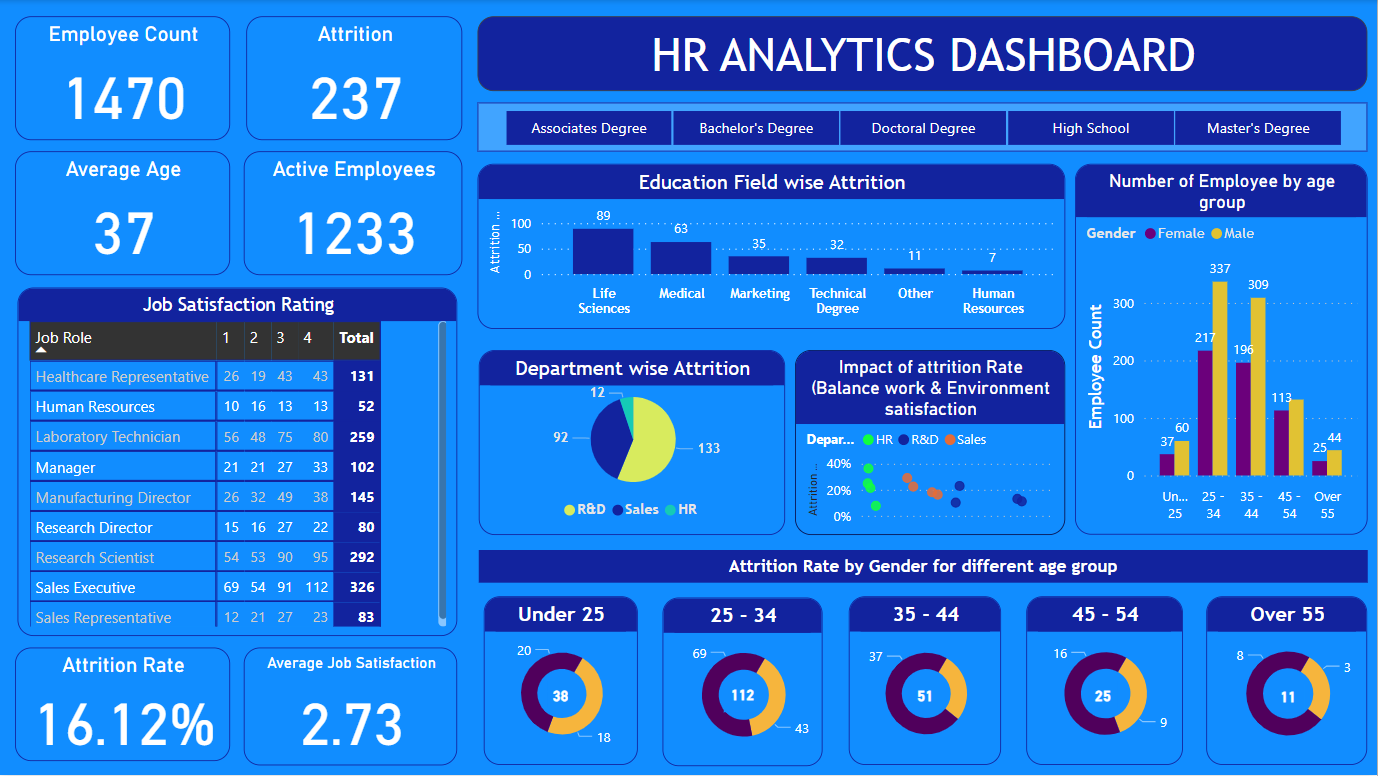

This screenshot's page, from the dashboard's own definition file:
{"tool":"powerbi","page":{"name":"Page 1","canvas":[1280,720],"ordinal":0},"visuals":[{"type":"card","title":"Employee Count","fields":{"Values":["Sum(HR_Data.Employee Count)"]},"box":[13.9,15.1,199.9,115],"z":0},{"type":"card","title":"Attrition","fields":{"Values":["Sum(HR_Data.Attrition Count)"]},"box":[228.9,15.1,201,115],"z":1000},{"type":"card","title":"Attrition Rate","fields":{"Values":["HR_Data.Attrition Rate"]},"box":[13.9,601.9,199.9,105.7],"z":2000},{"type":"card","title":"Active Employees","fields":{"Values":["HR_Data.Active Employees"]},"box":[226.6,140.6,203.3,115],"z":3000},{"type":"card","title":"Average Age","fields":{"Values":["Avg(HR_Data.Age)"]},"box":[13.9,140.6,199.9,115],"z":4000},{"type":"pieChart","title":"Department wise Attrition","fields":{"Category":["HR_Data.Department"],"Y":["Sum(HR_Data.Attrition Count)"]},"box":[445,325.3,284.7,172],"z":5000},{"type":"clusteredColumnChart","title":"Number of Employee by age group","fields":{"Category":["HR_Data.CF_age band"],"Y":["Sum(HR_Data.Employee Count)"],"Series":["HR_Data.Gender"]},"box":[999.3,152.2,271.9,345.1],"z":6000},{"type":"pivotTable","title":"Job Satisfaction Rating","fields":{"Rows":["HR_Data.Job Role"],"Columns":["HR_Data.Job Satisfaction"],"Values":["Sum(HR_Data.Employee Count)"]},"box":[16.3,267.2,409,324.2],"z":7000},{"type":"clusteredColumnChart","title":"Education Field wise Attrition","fields":{"Category":["HR_Data.Education Field"],"Y":["Sum(HR_Data.Attrition Count)"]},"box":[443.9,152.2,546.1,153.4],"z":8000},{"type":"card","title":"Average Job Satisfaction","fields":{"Values":["HR_Data.Job Satisfaction Avg"]},"box":[226.6,601.9,198.7,109.2],"z":9000},{"type":"donutChart","title":"Under 25","fields":{"Category":["HR_Data.Gender"],"Y":["Sum(HR_Data.Attrition Count)"],"Series":["HR_Data.CF_age band"]},"box":[449.7,554.3,142.9,156.9],"z":10000},{"type":"textbox","box":[445,511.3,826.1,30.2],"z":11000},{"type":"donutChart","title":"Over 55","fields":{"Category":["HR_Data.Gender"],"Y":["Sum(HR_Data.Attrition Count)"],"Series":["HR_Data.CF_age band"]},"box":[1121.3,554.3,149.9,156.9],"z":12000},{"type":"donutChart","title":"25 - 34","fields":{"Category":["HR_Data.Gender"],"Y":["Sum(HR_Data.Attrition Count)"],"Series":["HR_Data.CF_age band"]},"box":[615.8,555.4,148.7,156.9],"z":13000},{"type":"donutChart","title":"35 - 44","fields":{"Category":["HR_Data.Gender"],"Y":["Sum(HR_Data.Attrition Count)"],"Series":["HR_Data.CF_age band"]},"box":[789,554.3,141.8,156.9],"z":14000},{"type":"donutChart","title":"45 - 54","fields":{"Category":["HR_Data.Gender"],"Y":["Sum(HR_Data.Attrition Count)"],"Series":["HR_Data.CF_age band"]},"box":[954,554.3,145.2,156.9],"z":15000},{"type":"card","fields":{"Values":["Sum(HR_Data.Attrition Count)"]},"box":[508.9,633.3,24.4,24.4],"z":16000},{"type":"card","fields":{"Values":["Sum(HR_Data.Attrition Count)"]},"box":[1012.1,633.3,26.7,24.4],"z":17000},{"type":"card","fields":{"Values":["Sum(HR_Data.Attrition Count)"]},"box":[845.9,633.3,27.9,24.4],"z":18000},{"type":"card","fields":{"Values":["Sum(HR_Data.Attrition Count)"]},"box":[672.8,633.3,34.9,29],"z":19000},{"type":"card","fields":{"Values":["Sum(HR_Data.Attrition Count)"]},"box":[1181.7,635.6,31.4,26.7],"z":20000},{"type":"textbox","box":[443.9,15.1,827.3,69.7],"z":21000},{"type":"slicer","fields":{"Values":["HR_Data.Education"]},"box":[443.9,95.3,827.3,45.3],"z":22000},{"type":"scatterChart","title":"Impact of attrition Rate (Balance work & Environment satisfaction","fields":{"X":["Sum(HR_Data.Work Life Balance)"],"Category":["HR_Data.Environment Satisfaction"],"Series":["HR_Data.Department"],"Y":["HR_Data.Attrition Rate"]},"box":[739,325.3,251,172],"z":23000}]}

Visuals, with their boxes in screenshot pixels (x1, y1, x2, y2), scaled from the page's 1280x720 canvas onto the 1378x776 screenshot:
"Employee Count" card: [x1=15, y1=16, x2=230, y2=140]
"Attrition" card: [x1=246, y1=16, x2=463, y2=140]
"Attrition Rate" card: [x1=15, y1=649, x2=230, y2=763]
"Active Employees" card: [x1=244, y1=152, x2=463, y2=275]
"Average Age" card: [x1=15, y1=152, x2=230, y2=275]
"Department wise Attrition" pieChart: [x1=479, y1=351, x2=786, y2=536]
"Number of Employee by age group" clusteredColumnChart: [x1=1076, y1=164, x2=1369, y2=536]
"Job Satisfaction Rating" pivotTable: [x1=18, y1=288, x2=458, y2=637]
"Education Field wise Attrition" clusteredColumnChart: [x1=478, y1=164, x2=1066, y2=329]
"Average Job Satisfaction" card: [x1=244, y1=649, x2=458, y2=766]
"Under 25" donutChart: [x1=484, y1=597, x2=638, y2=767]
textbox: [x1=479, y1=551, x2=1368, y2=584]
"Over 55" donutChart: [x1=1207, y1=597, x2=1369, y2=767]
"25 - 34" donutChart: [x1=663, y1=599, x2=823, y2=768]
"35 - 44" donutChart: [x1=849, y1=597, x2=1002, y2=767]
"45 - 54" donutChart: [x1=1027, y1=597, x2=1183, y2=767]
card - Sum(HR_Data.Attrition Count): [x1=548, y1=683, x2=574, y2=709]
card - Sum(HR_Data.Attrition Count): [x1=1090, y1=683, x2=1118, y2=709]
card - Sum(HR_Data.Attrition Count): [x1=911, y1=683, x2=941, y2=709]
card - Sum(HR_Data.Attrition Count): [x1=724, y1=683, x2=762, y2=714]
card - Sum(HR_Data.Attrition Count): [x1=1272, y1=685, x2=1306, y2=714]
textbox: [x1=478, y1=16, x2=1369, y2=91]
slicer - HR_Data.Education: [x1=478, y1=103, x2=1369, y2=152]
"Impact of attrition Rate (Balance work & Environment satisfaction" scatterChart: [x1=796, y1=351, x2=1066, y2=536]
